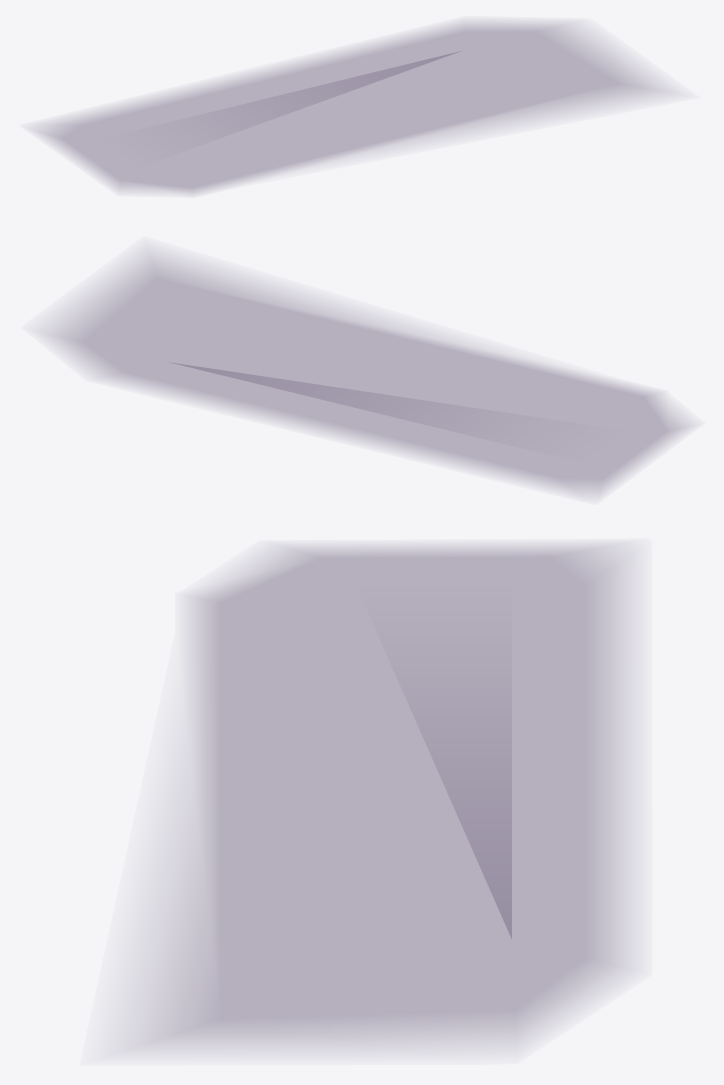
The picture shows the model from 3 angles, top to bottom: view 1: azimuth 30°, elevation 25°; view 2: azimuth 150°, elevation 25°; view 3: azimuth 270°, elevation 25°; orthographic projection. The views are drawn at different scales.
Parts seen in each view (by area): view 1: Joint_0_Object_0; view 2: Joint_0_Object_0; view 3: Joint_0_Object_0.
Boxes of the visible parts, x1,y1,x2,y2 form: Joint_0_Object_0: (38,23,665,193); Joint_0_Object_0: (48,254,688,493); Joint_0_Object_0: (139,546,623,1045).
Bounding box in the file's own units: 269 × 0 × 127.
1 material, 1 textured.
